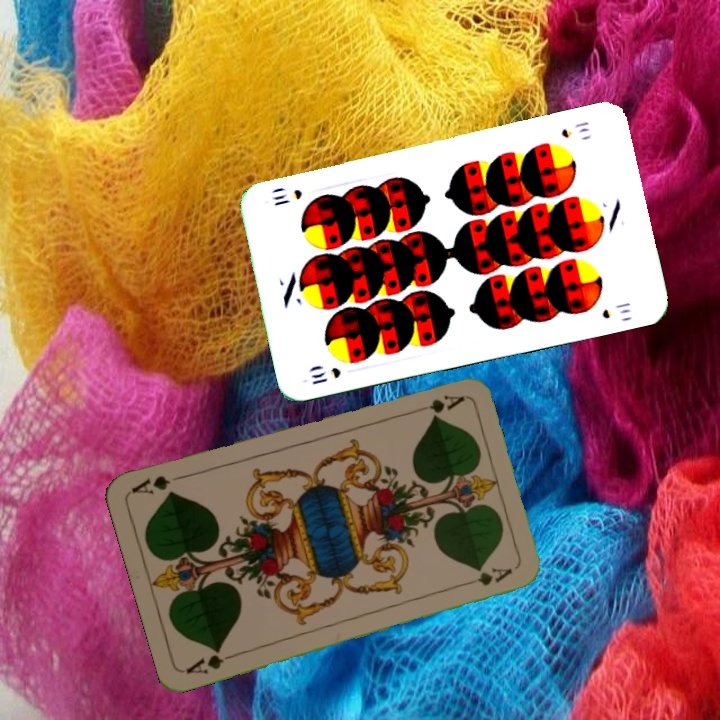GA: (182, 644, 239, 677), (408, 391, 466, 415)
S10: (307, 363, 344, 387), (557, 117, 592, 141)
